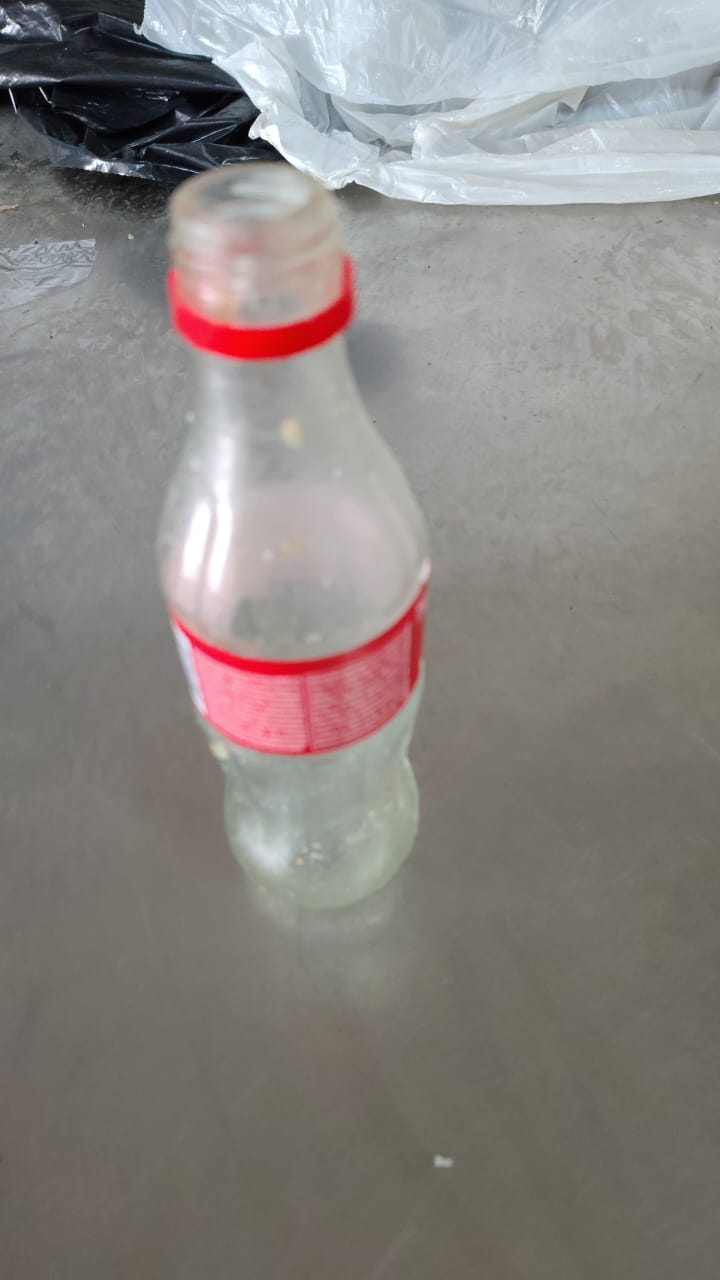Plastico: (154, 168, 430, 912)
